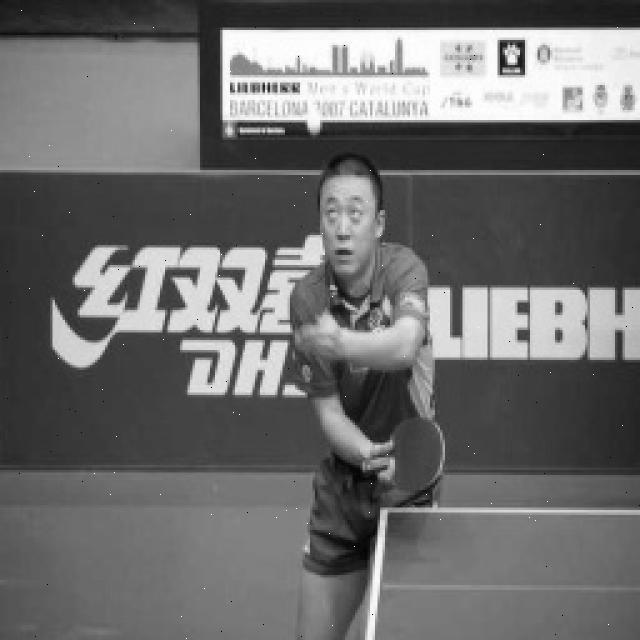ping-pong-ball: (300, 108, 325, 138)
